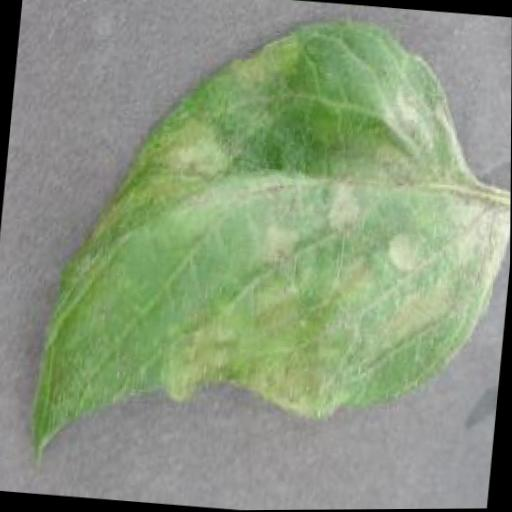Late Blight: (12, 0, 512, 503)
